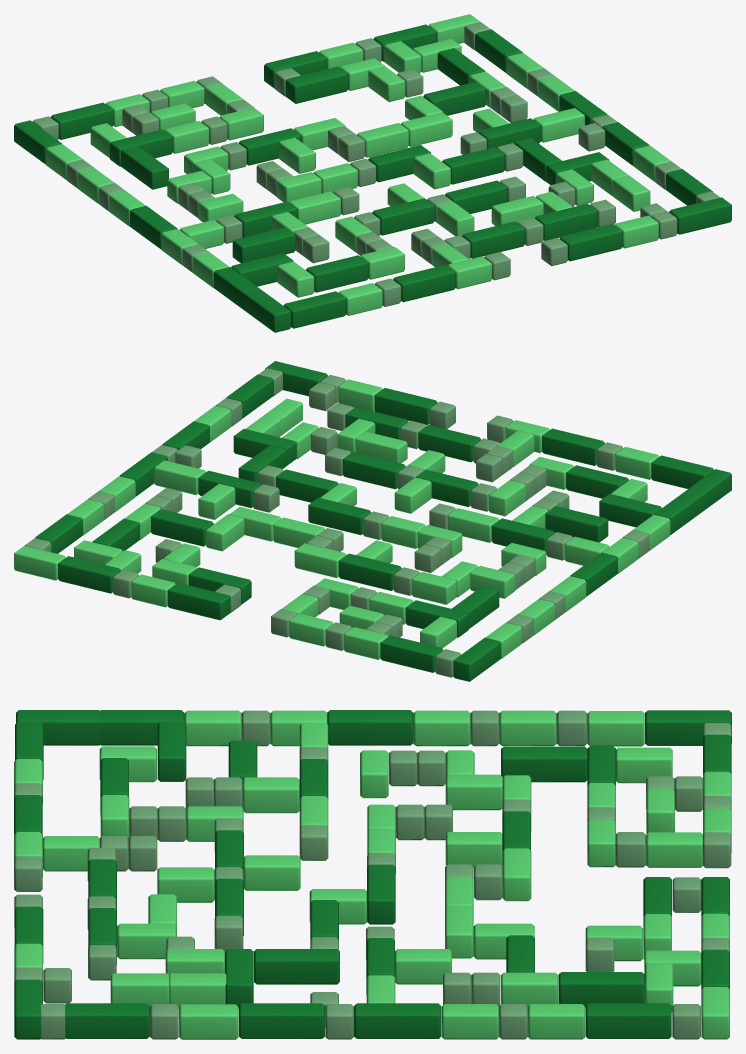
Rendered from SM_Maze_03a.fbx.
3 views of the same model, one above another, from view 1: azimuth 30°, elevation 25°; view 2: azimuth 150°, elevation 25°; view 3: azimuth 270°, elevation 25° (orthographic). The views are drawn at different scales.
Parts seen in each view (by area): view 1: cespuglio_low327, cespuglio_low446, cespuglio_low325; view 2: cespuglio_low327, cespuglio_low446, cespuglio_low325; view 3: cespuglio_low327, cespuglio_low446, cespuglio_low325.
Part boxes in pixels (box(x1,y1,x2,y2)): cespuglio_low327: box(46, 14, 671, 315); cespuglio_low446: box(14, 24, 731, 332); cespuglio_low325: box(32, 22, 720, 306); cespuglio_low327: box(14, 379, 670, 659); cespuglio_low446: box(35, 361, 731, 681); cespuglio_low325: box(24, 368, 649, 677); cespuglio_low327: box(14, 710, 731, 1039); cespuglio_low446: box(14, 710, 731, 1039); cespuglio_low325: box(14, 710, 731, 1039).
Size of the model in its own units: 2523 by 102 by 2503.
